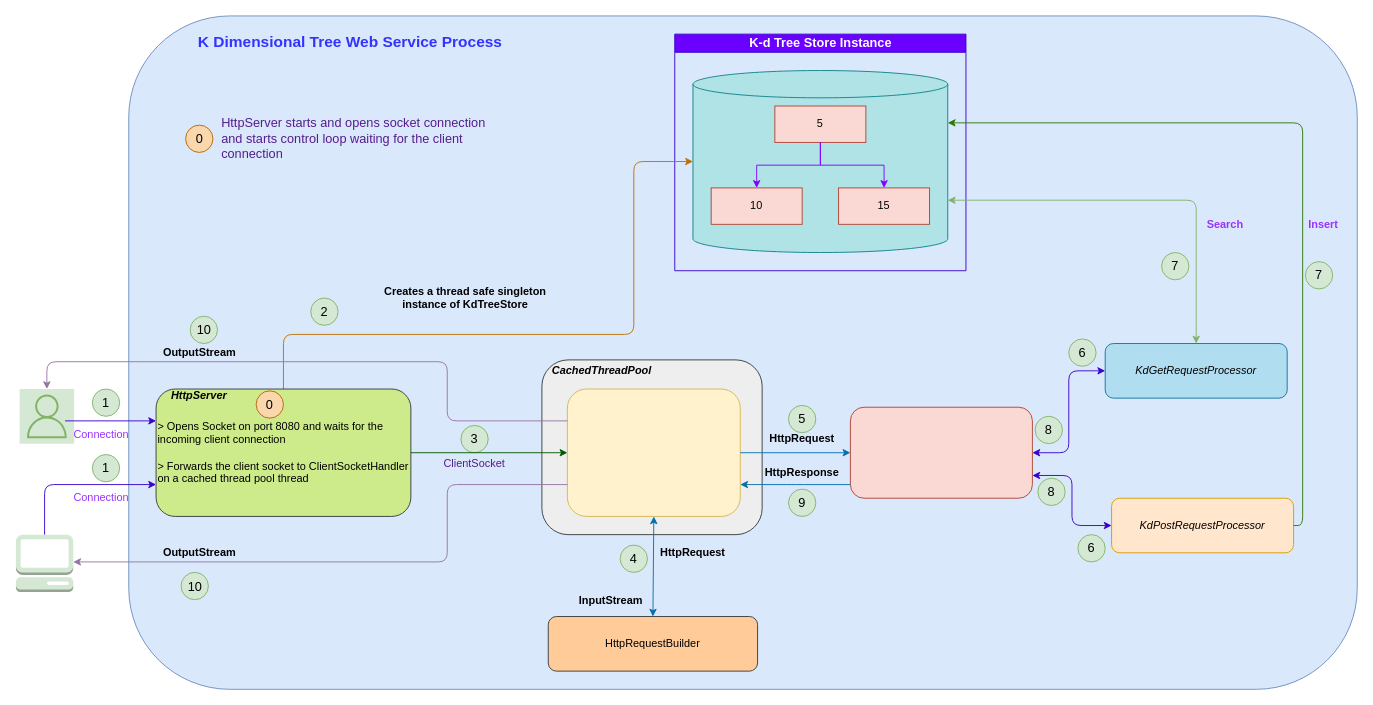
This 1373x705 diagram has some shape labels left out. Here are the shapes that lost their labels. From the top down, the centre of each, then its label:
At point 46,416: "User".
At point 653,452: "ClientSocketHandler".
At point 940,452: "HttpResponseProcessorFactory GET api/ POST api/".
